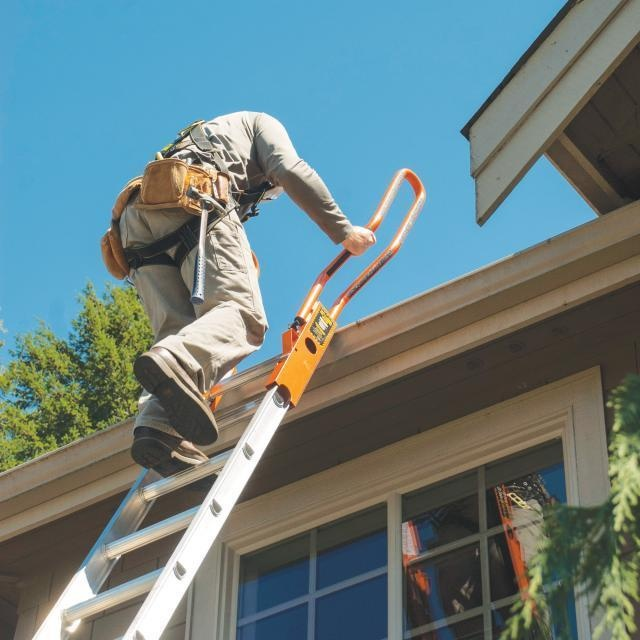Arnes_seguridad: (101, 117, 267, 284)
